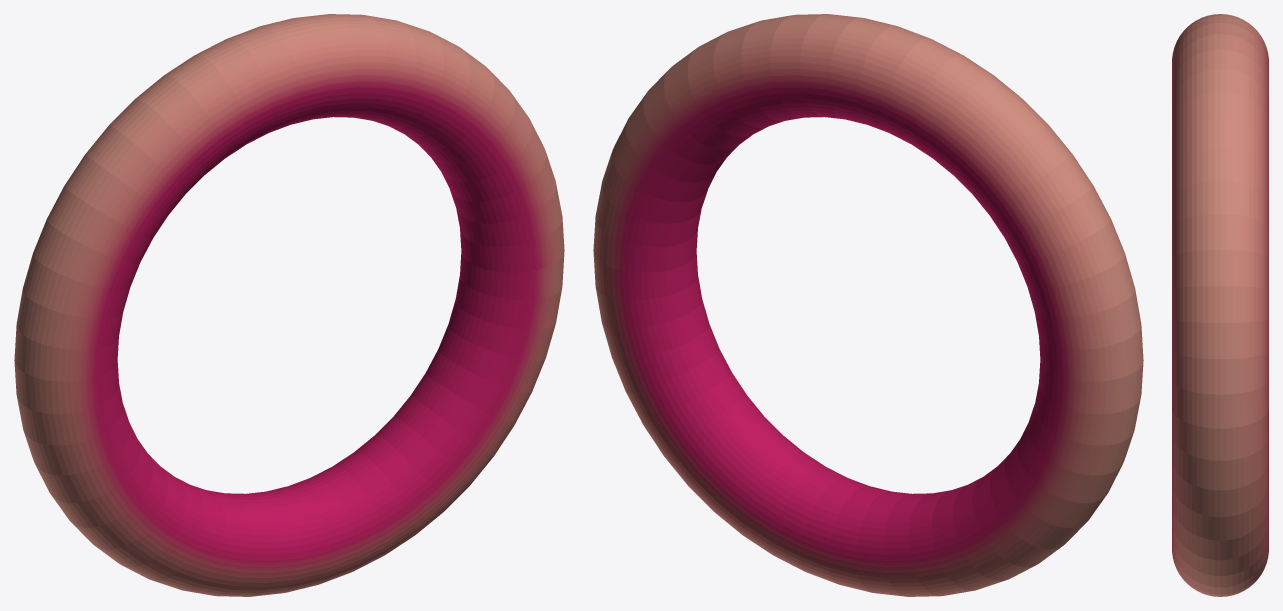
3 views of the same model, side by side, from view 1: azimuth 30°, elevation 25°; view 2: azimuth 150°, elevation 25°; view 3: azimuth 270°, elevation 25° (orthographic). The views are drawn at different scales.
Parts seen in each view (by area): view 1: world; view 2: world; view 3: world.
Part boxes in pixels (left/top/right/bottom): world: left=14, top=14, right=564, bottom=596; world: left=593, top=14, right=1143, bottom=596; world: left=1172, top=14, right=1268, bottom=596.
Size of the model in its own units: 36 by 35.93 by 5.99.
